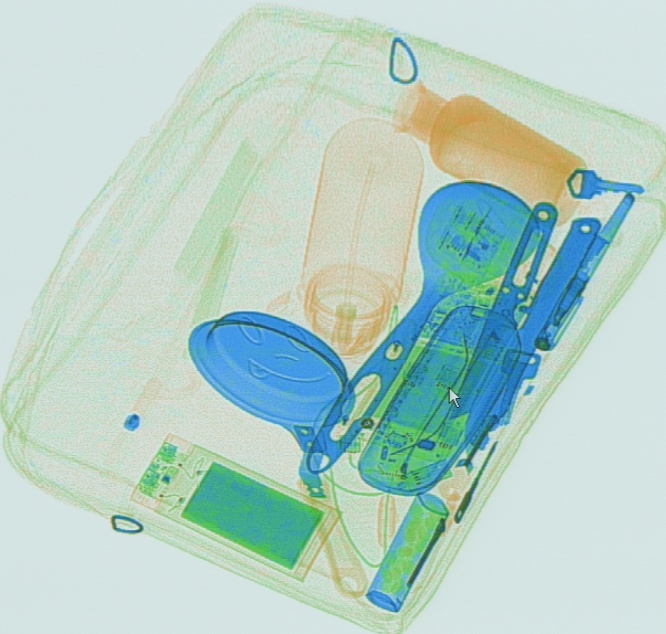knife: (461, 216, 600, 463), (443, 199, 560, 420)
